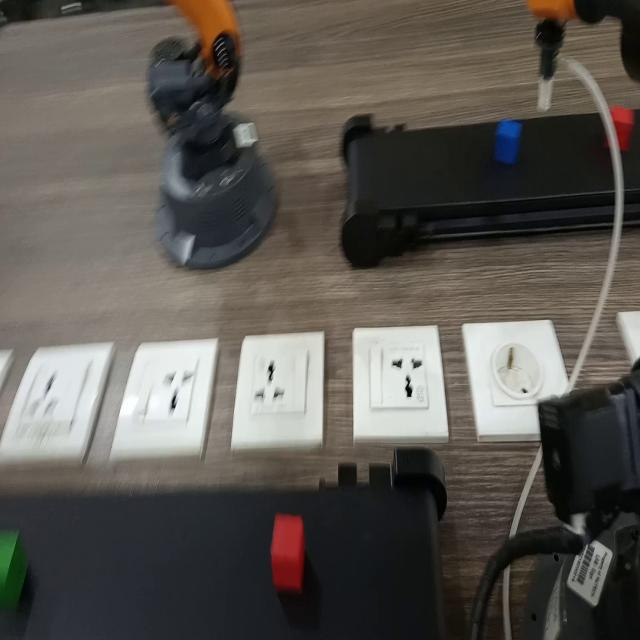cube: (268, 506, 313, 594), (0, 522, 39, 619), (604, 99, 639, 154), (491, 117, 529, 162)
